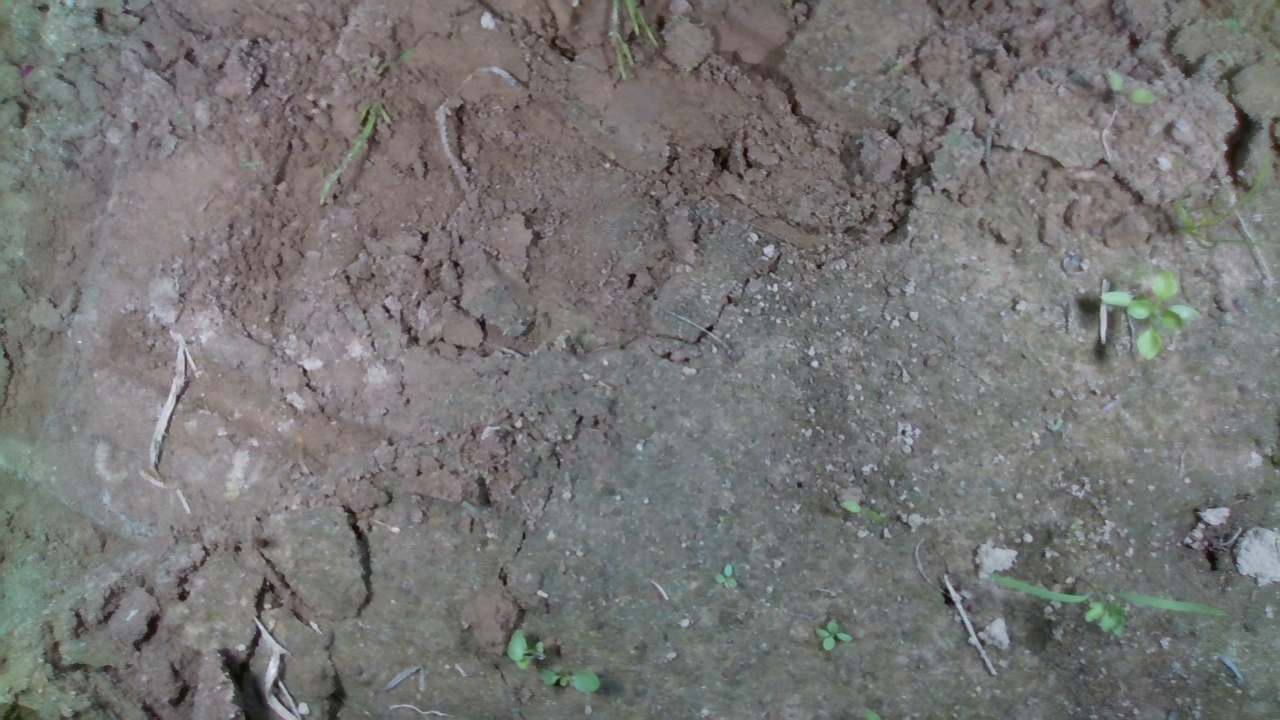weed: (1096, 266, 1201, 360), (1092, 67, 1160, 107), (534, 666, 602, 693), (811, 617, 853, 654), (837, 499, 887, 524), (711, 561, 739, 591)
